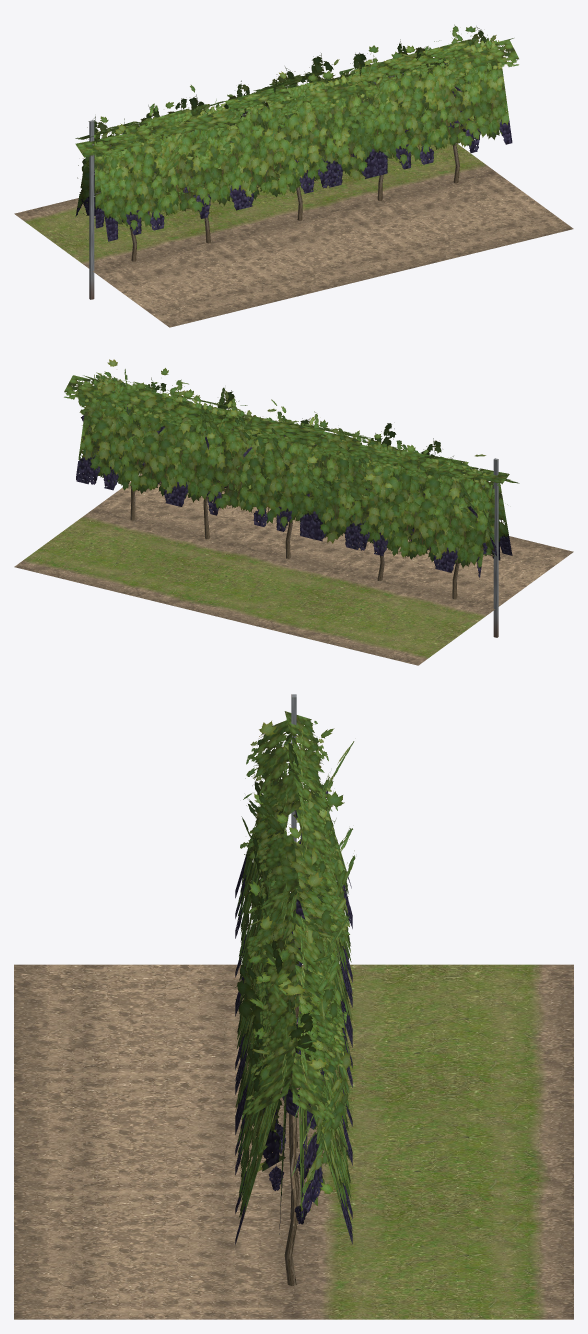
The model's file is vine_row.glb.
3 views of the same model, one above another, from view 1: azimuth 30°, elevation 25°; view 2: azimuth 150°, elevation 25°; view 3: azimuth 270°, elevation 25° (orthographic). The views are drawn at different scales.
Visible parts, largest first — view 1: vine_row_FLOOR, vine_row_FAR, vine_row_LOD0; view 2: vine_row_FLOOR, vine_row_FAR, vine_row_LOD0; view 3: vine_row_FLOOR, vine_row_LOD0, vine_row_FAR.
Part boxes in pixels (bbox=[...]): vine_row_FLOOR: bbox=[14, 143, 573, 327]; vine_row_FAR: bbox=[75, 37, 512, 241]; vine_row_LOD0: bbox=[75, 24, 518, 299]; vine_row_FLOOR: bbox=[14, 474, 573, 665]; vine_row_FAR: bbox=[76, 372, 512, 579]; vine_row_LOD0: bbox=[64, 359, 519, 637]; vine_row_FLOOR: bbox=[14, 964, 573, 1319]; vine_row_LOD0: bbox=[230, 694, 355, 1285]; vine_row_FAR: bbox=[235, 719, 352, 1244].
Size of what is drawn, in the model's own units: 6.53 by 2.65 by 4.
Materials: 2 (2 with a texture image).
